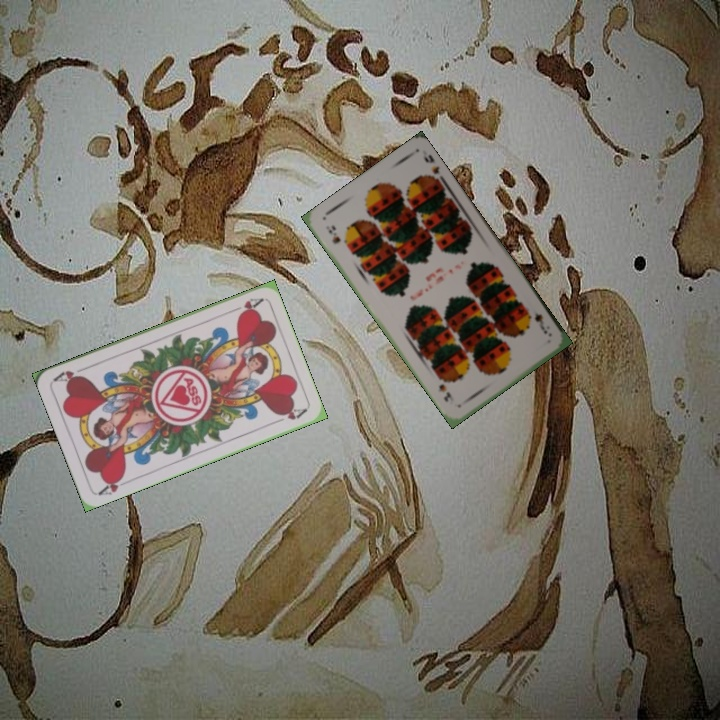HA: (94, 471, 133, 498), (226, 294, 265, 317)
S9: (530, 309, 550, 337), (324, 221, 343, 247)
